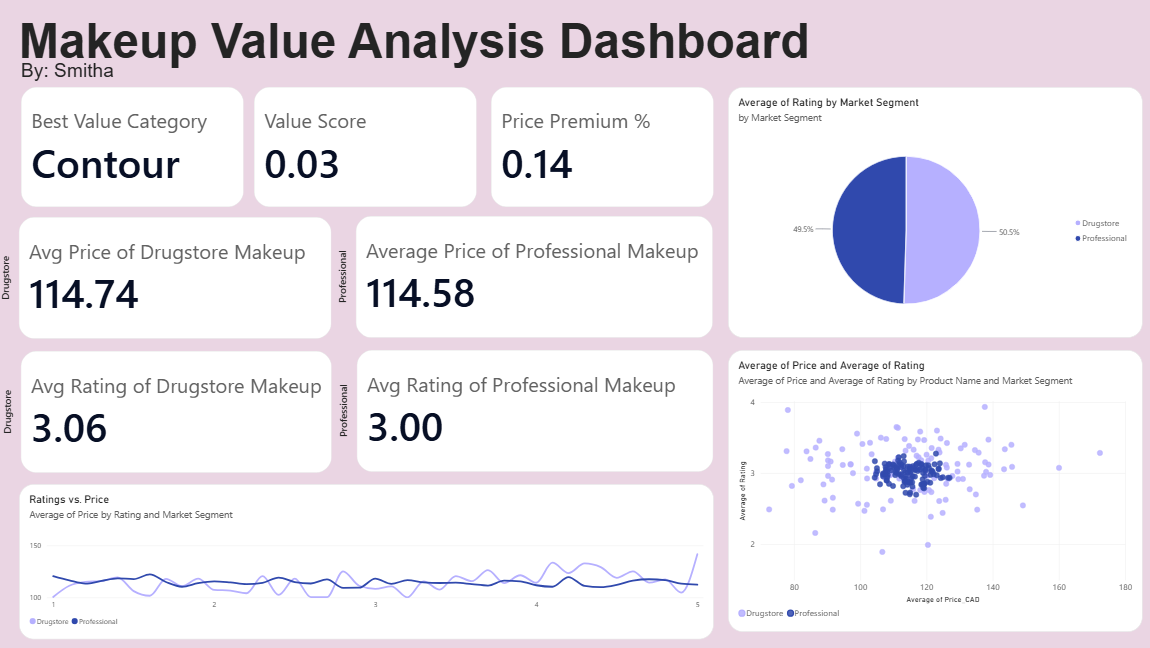

This screenshot's page, from the dashboard's own definition file:
{"tool":"powerbi","page":{"name":"Page 1","canvas":[1920,1080],"ordinal":0},"visuals":[{"type":"textbox","box":[33.3,22.7,1416.7,133.3],"z":0},{"type":"cardVisual","fields":{"Data":["Avg(cleaned_makeup.Price_CAD)"],"Rows":["cleaned_makeup.Market_Segment"]},"box":[0,362.1,554.5,203],"z":1000},{"type":"cardVisual","fields":{"Data":["Avg(cleaned_makeup.Price_CAD)"],"Rows":["cleaned_makeup.Market_Segment"]},"box":[562.1,360.6,628.8,203],"z":2000},{"type":"cardVisual","fields":{"Data":["Avg(cleaned_makeup.Rating)"],"Rows":["cleaned_makeup.Market_Segment"]},"box":[3,584.8,551.5,203],"z":3000},{"type":"cardVisual","fields":{"Data":["Avg(cleaned_makeup.Rating)"],"Rows":["cleaned_makeup.Market_Segment"]},"box":[563.6,583.3,627.3,203],"z":4000},{"type":"cardVisual","fields":{"Data":["cleaned_makeup.Price Premium %"]},"box":[819.7,145.5,371.2,200],"z":5000},{"type":"cardVisual","fields":{"Data":["cleaned_makeup.Value Score"]},"box":[424.2,145.5,371.2,200],"z":6000},{"type":"cardVisual","fields":{"Data":["cleaned_makeup.Best Value Category"]},"box":[36.4,145.5,371.2,200],"z":7000},{"type":"lineChart","title":"Ratings vs. Price","fields":{"Category":["cleaned_makeup.Rating"],"Series":["cleaned_makeup.Market_Segment"],"Y":["Avg(cleaned_makeup.Price_CAD)"]},"box":[33.3,806.1,1157.6,259.1],"z":8000},{"type":"scatterChart","title":"Average of Price and Average of Rating","fields":{"Category":["cleaned_makeup.Product_Name"],"Series":["cleaned_makeup.Market_Segment"],"X":["Avg(cleaned_makeup.Price_CAD)"],"Y":["Avg(cleaned_makeup.Rating)"]},"box":[1215.2,583.3,690.9,469.7],"z":9000},{"type":"pieChart","title":"Average of Rating by Market Segment","fields":{"Category":["cleaned_makeup.Market_Segment"],"Y":["Avg(cleaned_makeup.Rating)"]},"box":[1215.2,145.5,690.9,418.2],"z":10000},{"type":"textbox","box":[36.4,100,230.3,45.5],"z":10001}]}

Visuals, with their boxes in screenshot pixels (x1, y1, x2, y2), scaled from the page's 1920x1080 canvas onto the 1150x648 screenshot:
textbox: [left=20, top=14, right=868, bottom=94]
cardVisual - Avg(cleaned_makeup.Price_CAD) x cleaned_makeup.Market_Segment: [left=0, top=217, right=332, bottom=339]
cardVisual - Avg(cleaned_makeup.Price_CAD) x cleaned_makeup.Market_Segment: [left=337, top=216, right=713, bottom=338]
cardVisual - Avg(cleaned_makeup.Rating) x cleaned_makeup.Market_Segment: [left=2, top=351, right=332, bottom=473]
cardVisual - Avg(cleaned_makeup.Rating) x cleaned_makeup.Market_Segment: [left=338, top=350, right=713, bottom=472]
cardVisual - cleaned_makeup.Price Premium %: [left=491, top=87, right=713, bottom=207]
cardVisual - cleaned_makeup.Value Score: [left=254, top=87, right=476, bottom=207]
cardVisual - cleaned_makeup.Best Value Category: [left=22, top=87, right=244, bottom=207]
"Ratings vs. Price" lineChart: [left=20, top=484, right=713, bottom=639]
"Average of Price and Average of Rating" scatterChart: [left=728, top=350, right=1142, bottom=632]
"Average of Rating by Market Segment" pieChart: [left=728, top=87, right=1142, bottom=338]
textbox: [left=22, top=60, right=160, bottom=87]
